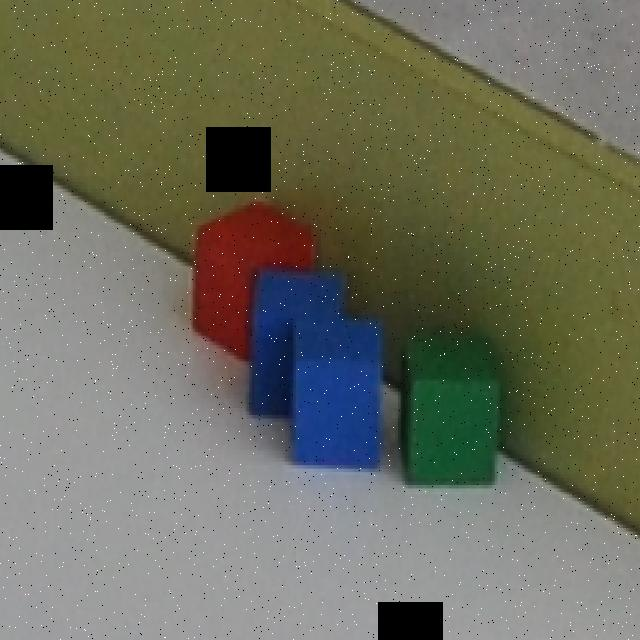bluecube: (245, 270, 346, 418), (294, 321, 383, 469)
green cube: (398, 330, 500, 486)
red cube: (191, 204, 316, 362)
